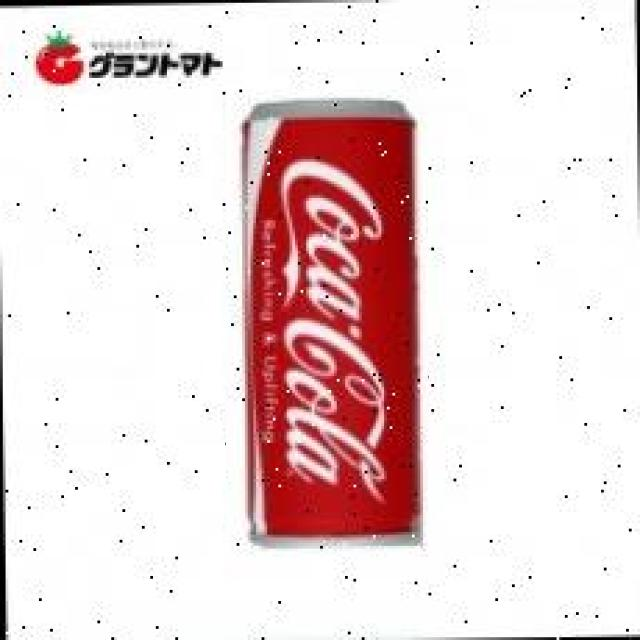coca-cola: (226, 89, 428, 557)
